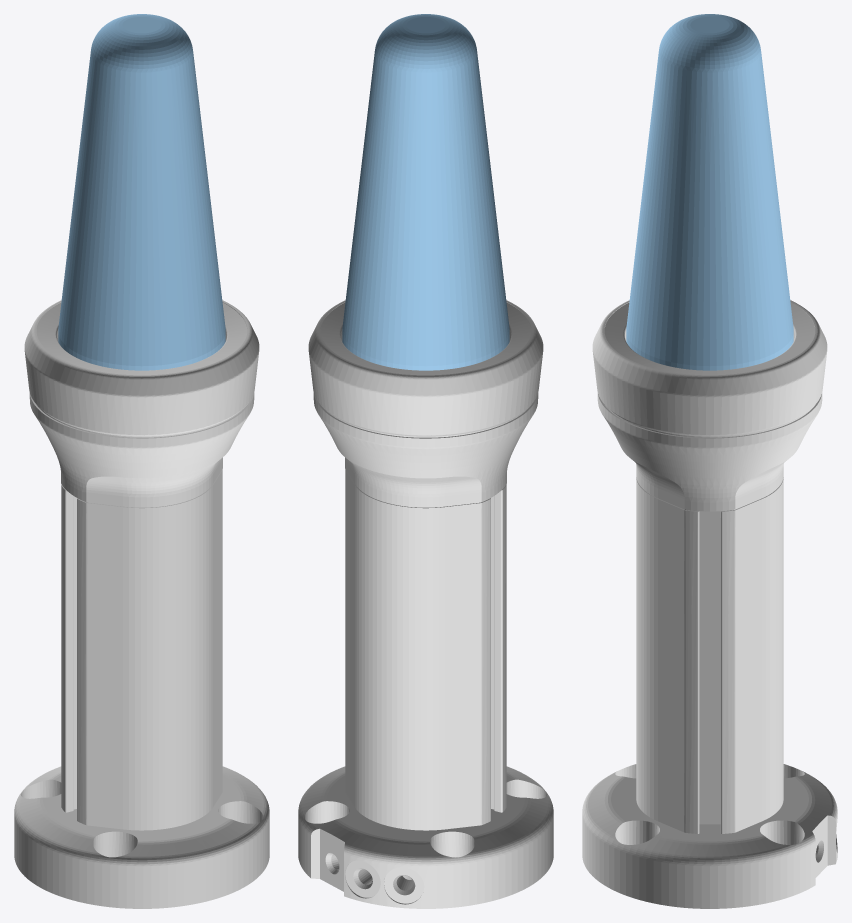
File: gripperadaptativo.glb
The picture shows the model from 3 angles, left to right: view 1: azimuth 30°, elevation 25°; view 2: azimuth 150°, elevation 25°; view 3: azimuth 270°, elevation 25°; orthographic projection.
Parts seen in each view (by area): view 1: Node1; view 2: Node1; view 3: Node1.
Boxes of the visible parts, left/top/right/bottom form: Node1: left=14, top=14, right=269, bottom=908; Node1: left=298, top=14, right=553, bottom=908; Node1: left=582, top=14, right=837, bottom=908.
Size of the model in its own units: 62.5 by 227 by 62.5.
